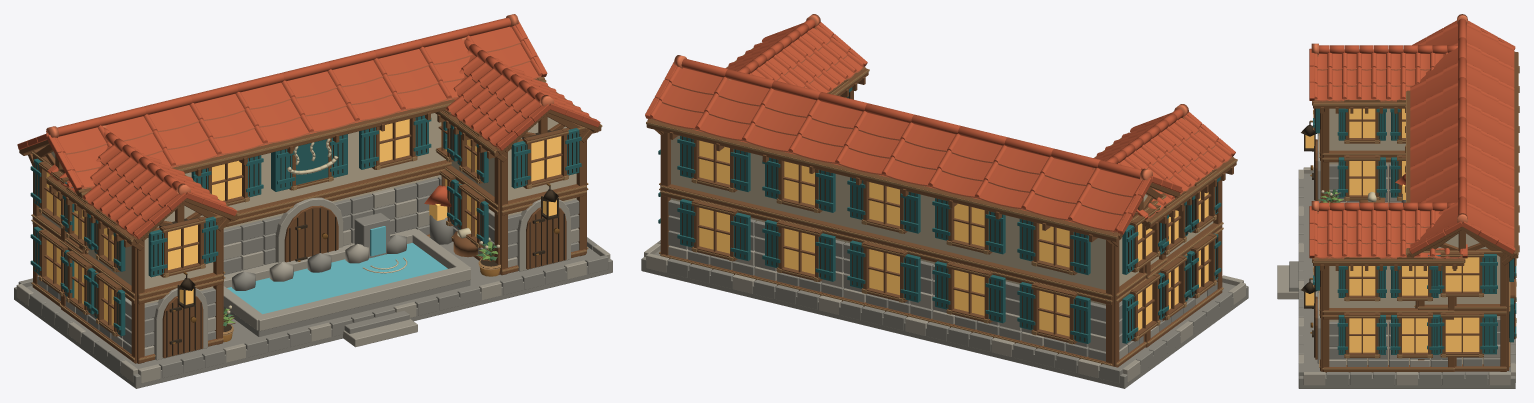
3 renders of one model, left to right at view 1: azimuth 30°, elevation 25°; view 2: azimuth 150°, elevation 25°; view 3: azimuth 270°, elevation 25°, orthographic. The views are drawn at different scales.
Visible parts, largest first — view 1: alpine_onsen_2_geometry, alpine_onsen_2_geometry ceramic; view 2: alpine_onsen_2_geometry, alpine_onsen_2_geometry ceramic; view 3: alpine_onsen_2_geometry, alpine_onsen_2_geometry ceramic.
Boxes of the visible parts, x1,y1,x2,y2 form: alpine_onsen_2_geometry: (14,76,612,388); alpine_onsen_2_geometry ceramic: (17,14,600,239); alpine_onsen_2_geometry: (641,28,1248,388); alpine_onsen_2_geometry ceramic: (645,14,1235,234); alpine_onsen_2_geometry: (1277,51,1519,388); alpine_onsen_2_geometry ceramic: (1309,14,1515,258).
Bounding box in the file's own units: 2.06 × 0.7928 × 1.02.
